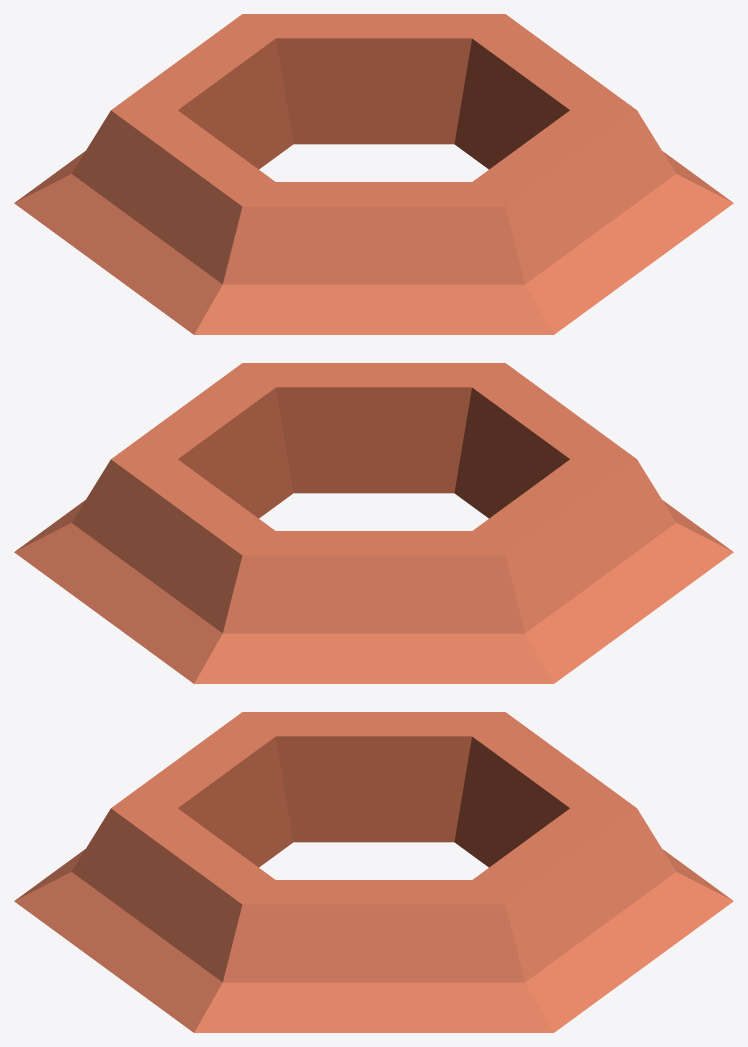
The model's file is crater.fbx.
The picture shows the model from 3 angles, top to bottom: view 1: azimuth 30°, elevation 25°; view 2: azimuth 150°, elevation 25°; view 3: azimuth 270°, elevation 25°; orthographic projection.
Visible parts, largest first — view 1: crater; view 2: crater; view 3: crater.
Boxes of the visible parts, x1=… form: crater: x1=14, y1=14, x2=733, y2=334; crater: x1=14, y1=363, x2=733, y2=683; crater: x1=14, y1=712, x2=733, y2=1032.
Bounding box in the file's own units: 7.15 × 1.18 × 8.26.
